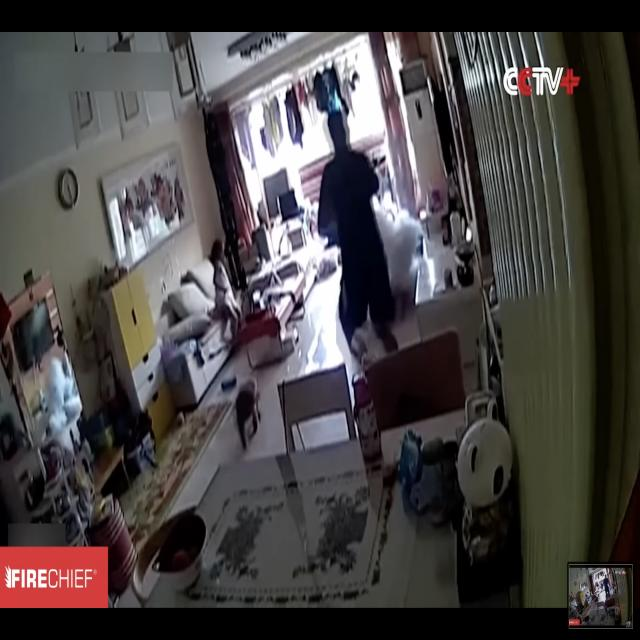Atencao: (371, 199, 445, 299)
Monitorando: (10, 45, 625, 562)
